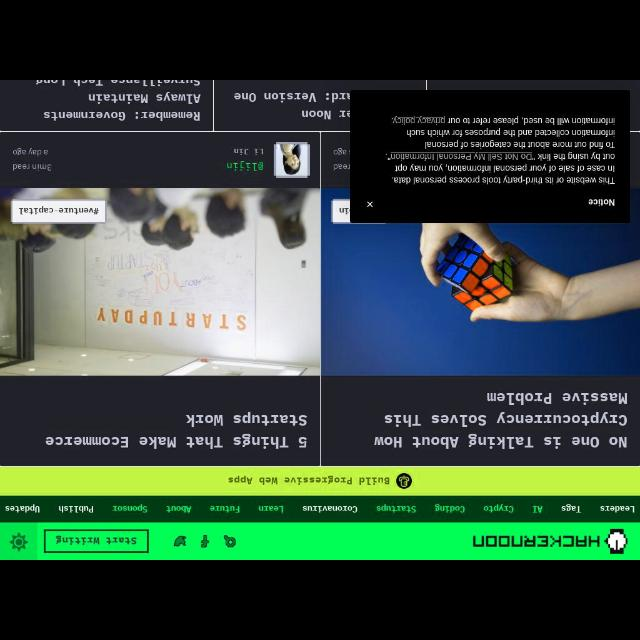button: (1, 526, 37, 558)
icon: (10, 534, 28, 550), (222, 535, 235, 549), (174, 535, 186, 547), (200, 535, 208, 549)
image: (1, 188, 321, 376), (322, 190, 640, 374), (472, 526, 626, 554), (397, 474, 411, 490)
multitab: (1, 498, 639, 522)
text: (387, 117, 616, 185), (374, 389, 628, 447), (45, 412, 307, 448), (36, 81, 202, 121), (228, 474, 390, 486), (232, 90, 352, 104), (55, 534, 137, 544), (20, 205, 99, 215), (300, 108, 350, 118), (331, 148, 352, 170), (112, 503, 150, 515), (226, 160, 262, 172), (375, 504, 417, 514), (598, 504, 638, 514), (4, 504, 42, 514), (58, 504, 94, 514), (12, 147, 48, 157), (303, 506, 357, 512), (434, 503, 466, 513), (210, 504, 242, 514), (13, 164, 51, 172), (484, 504, 514, 514), (234, 146, 264, 156), (258, 504, 286, 514), (588, 199, 616, 207), (167, 506, 191, 514), (562, 505, 580, 513), (532, 506, 544, 514), (338, 206, 349, 214), (367, 202, 373, 208)
textbutton: (44, 528, 148, 554), (11, 200, 104, 222)
toolbar: (1, 524, 639, 560)
